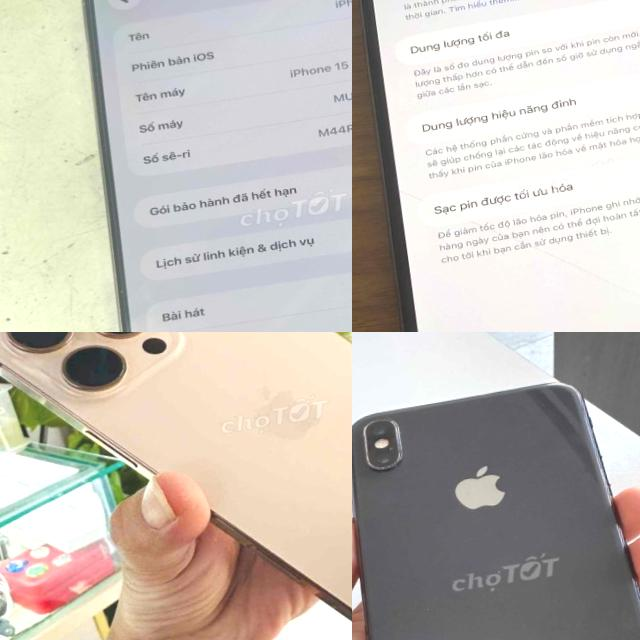scratch: (393, 422, 412, 460), (352, 422, 361, 438)
